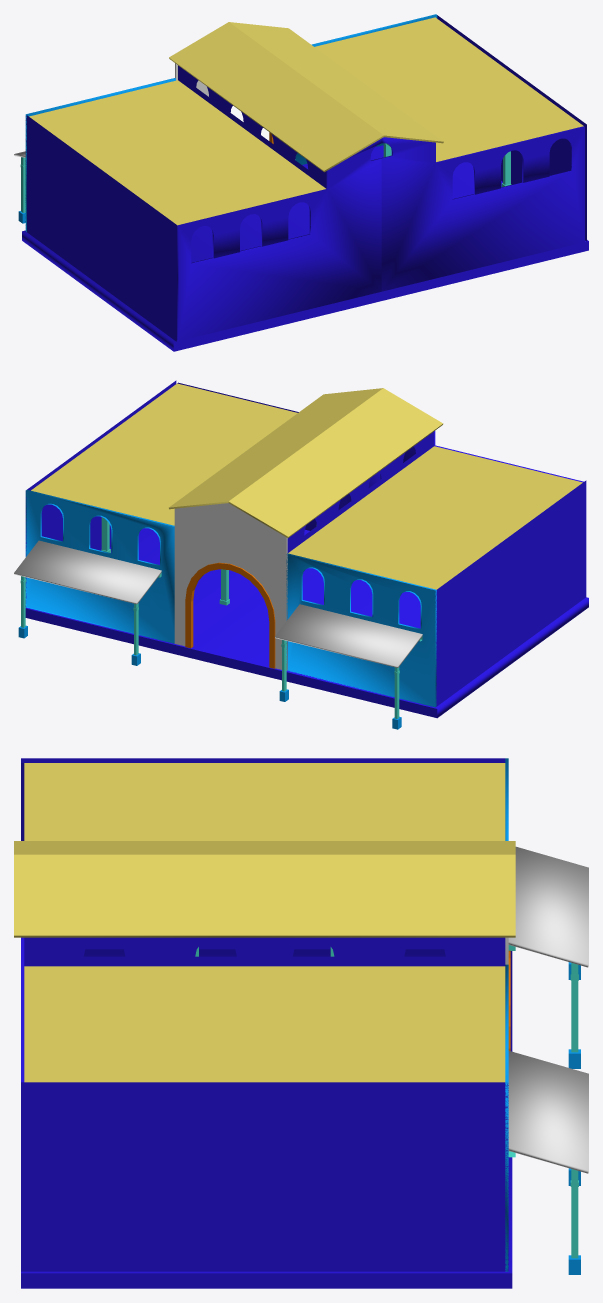
The model's file is market_collisionSetup.fbx.
3 renders of one model, top to bottom at view 1: azimuth 30°, elevation 25°; view 2: azimuth 150°, elevation 25°; view 3: azimuth 270°, elevation 25°, orthographic. The views are drawn at different scales.
Visible parts, largest first — view 1: collisionCube.282, collisionCube.329, collisionCube.283, collisionCube.294, collisionConvex.623, collisionCube.331, collisionConvex.614, collisionCube.247, collisionCube.293, collisionCube.246; view 2: collisionCube.329, collisionCube.294, collisionCube.283, collisionCube.331, collisionConvex.623, collisionCube.293, collisionCube.246, collisionConvex.614, collisionConvex.622, collisionConvex.613, collisionConvex, collisionConcave.001 (+3 smaller); view 3: collisionCube.247, collisionCube.283, collisionConvex.614, collisionCube.329, collisionCube.331, collisionConvex.613, collisionConvex.622, collisionConvex.623, collisionCube.294, collisionCube.246, collisionCube.282, collisionCube.287 (+1 smaller).
Part boxes in pixels (x1,y1,x2,y2): collisionCube.282: (177,126,584,341); collisionCube.329: (29,65,326,225); collisionCube.283: (315,17,583,161); collisionCube.294: (25,115,177,341); collisionConvex.623: (169,22,383,172); collisionCube.331: (22,145,588,351); collisionConvex.614: (229,22,443,143); collisionCube.247: (437,15,586,241); collisionCube.293: (25,78,175,231); collisionCube.246: (295,14,437,164); collisionCube.329: (287,431,582,589); collisionCube.294: (435,480,586,706); collisionCube.283: (31,383,297,525); collisionCube.331: (25,528,588,718); collisionConvex.623: (228,388,443,537); collisionCube.293: (286,553,436,707); collisionCube.246: (25,490,174,643); collisionConvex.614: (169,388,382,509); collisionConvex.622: (275,604,422,667); collisionConvex.613: (14,540,161,604); collisionConvex: (176,503,283,563); collisionConcave.001: (174,508,230,646); collisionCube.247: (21,1082,508,1271); collisionCube.283: (24,937,505,1082); collisionConvex.614: (14,854,515,937); collisionCube.329: (24,763,505,840); collisionCube.331: (21,949,512,1288); collisionConvex.613: (508,1051,588,1173); collisionConvex.622: (508,846,588,967); collisionConvex.623: (14,841,515,854); collisionCube.294: (21,758,505,949); collisionCube.246: (505,964,508,1271); collisionCube.282: (21,763,24,1082); collisionCube.287: (571,963,578,1052).
Size of the model in its own units: 2782 by 1072 by 2063.
